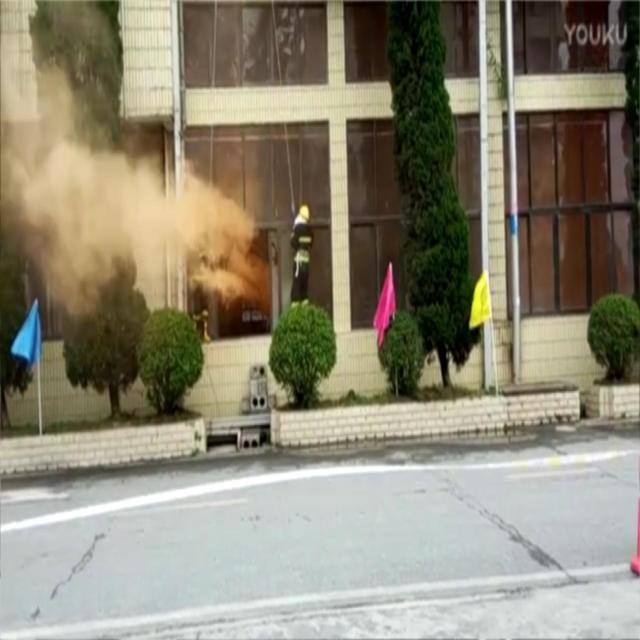Smoke: (0, 55, 261, 328)
